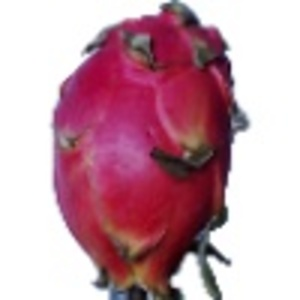pitaia: (51, 1, 253, 300)
